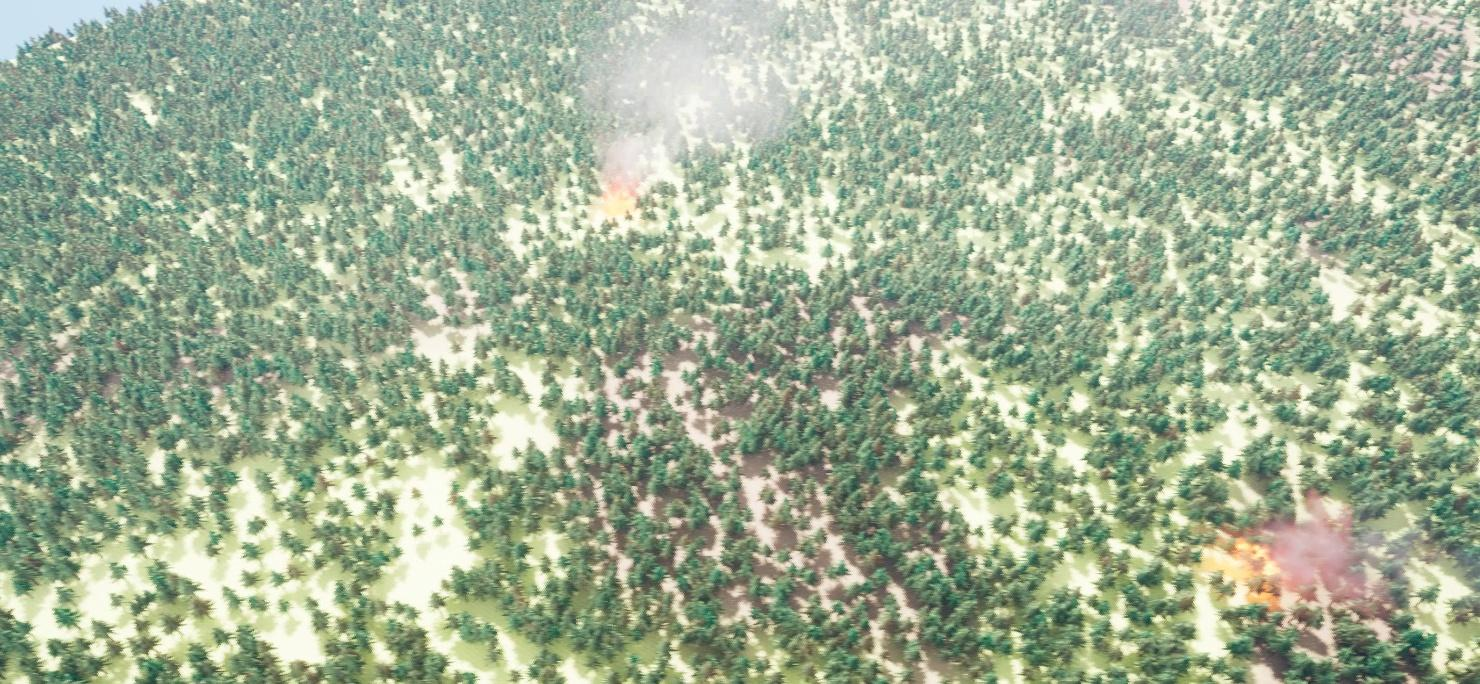fire: (1210, 531, 1280, 613), (587, 184, 644, 220)
smoke: (584, 0, 812, 184), (1279, 493, 1389, 605)
